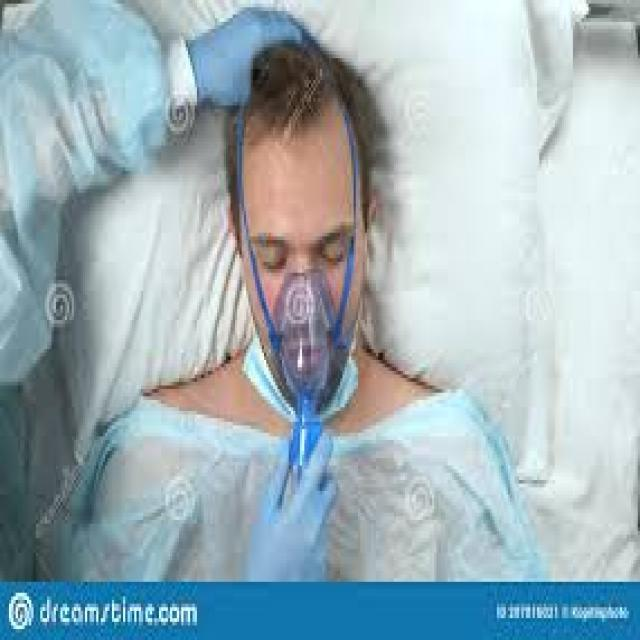oxygen_mask: (260, 267, 363, 488)
